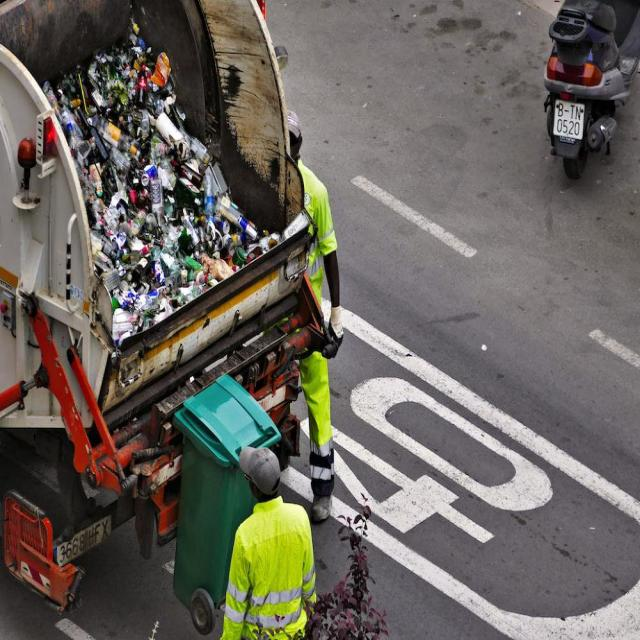trash: (65, 63, 254, 287)
